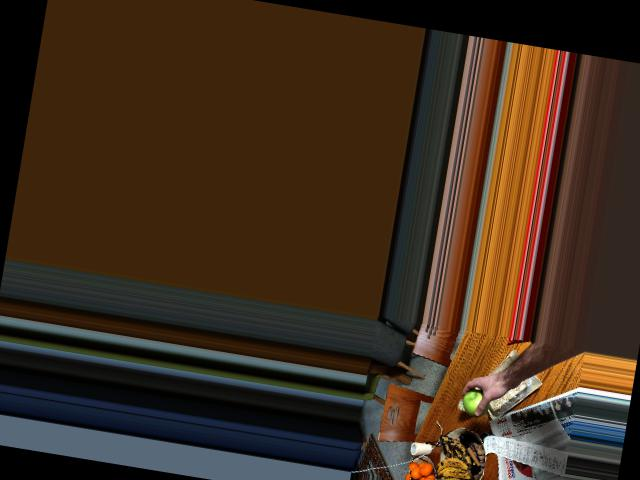apple: (460, 382, 502, 420)
